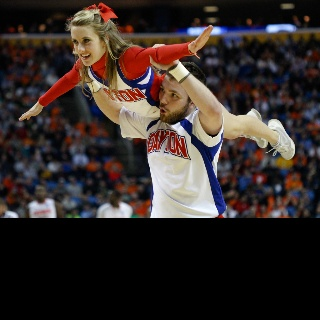without_mask: (158, 75, 190, 124), (70, 26, 102, 66)
